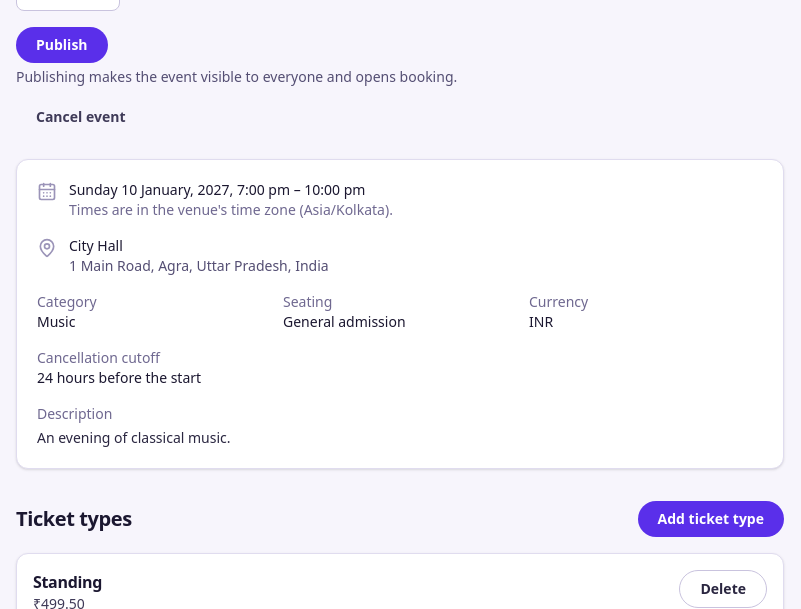
Test: OrganizerEventPage › ticket types › adds a general-admission ticket type and refreshes the list
Expected: the heading "Standing" is shown, [33,571,102,593]
Click the button "Add ticket type" at (711, 519), box [638,501,784,537]
(page scrolled)
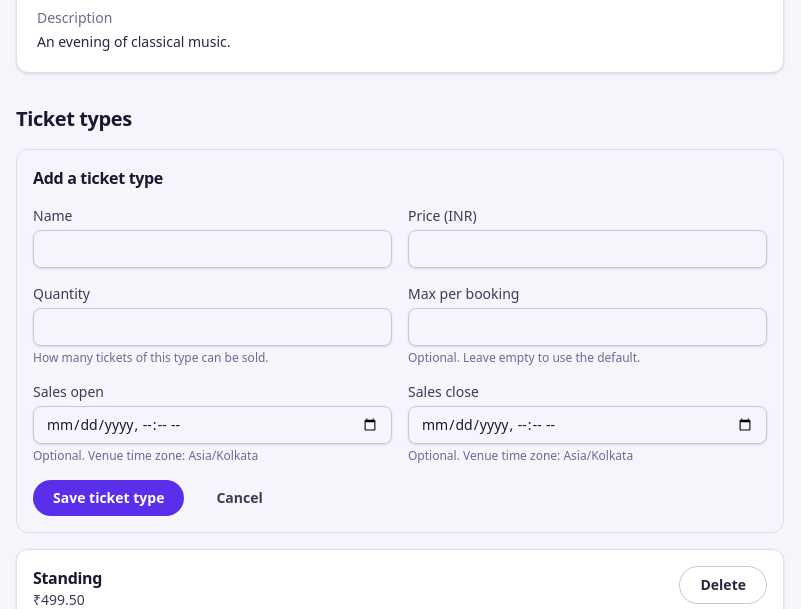
Type "Balcony" into the field labelled "Name" at (212, 249), box [33,230,392,268]
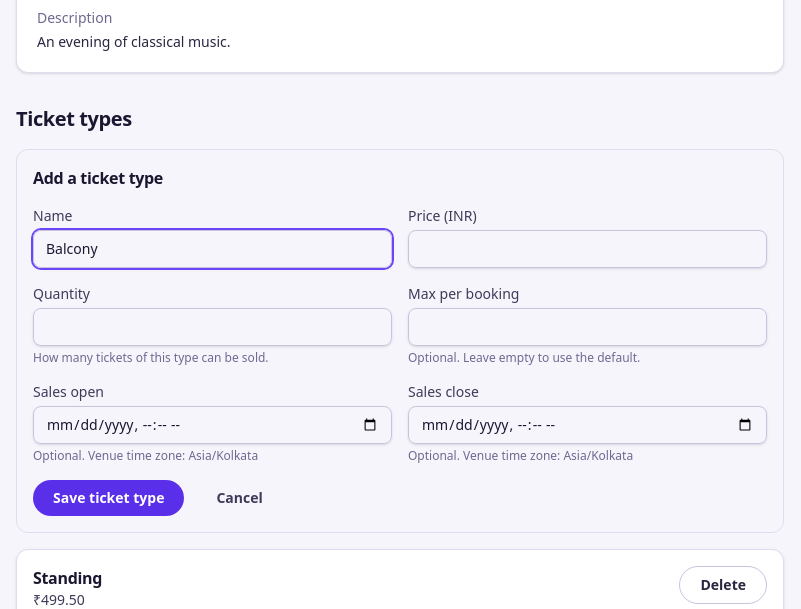
Type "300" into the number field labelled "Price (INR)" at (588, 249), box [408,230,767,268]
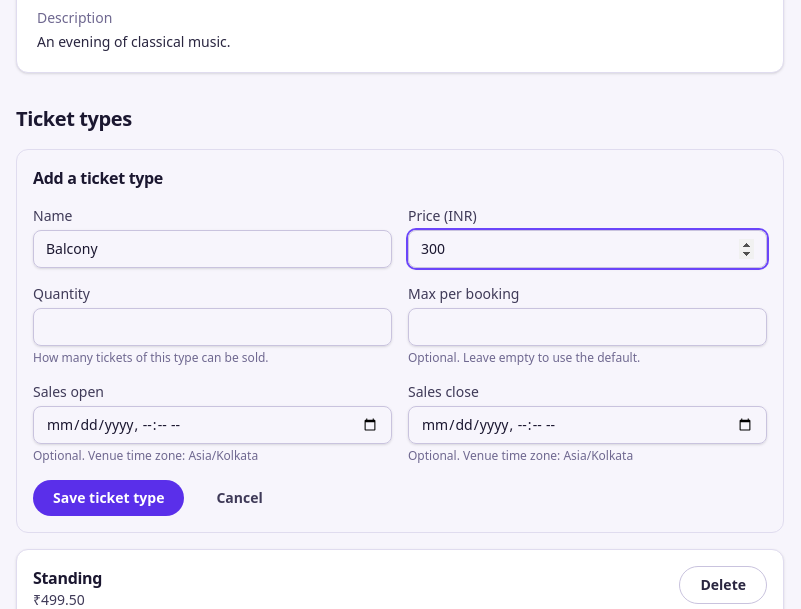
Type "40" into the number field labelled "Quantity" at (212, 327), box [33,308,392,346]
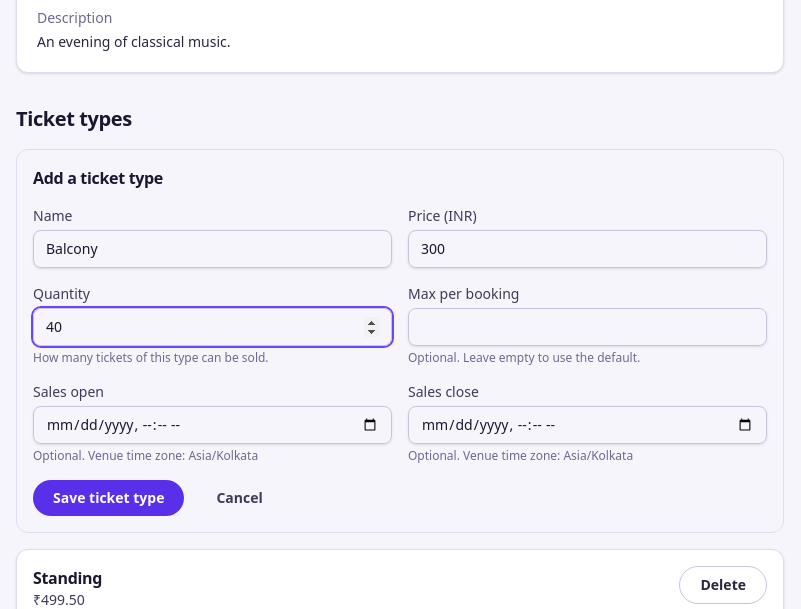
Click the button "Save ticket type" at (109, 498), box [33,480,184,516]
(page scrolled)
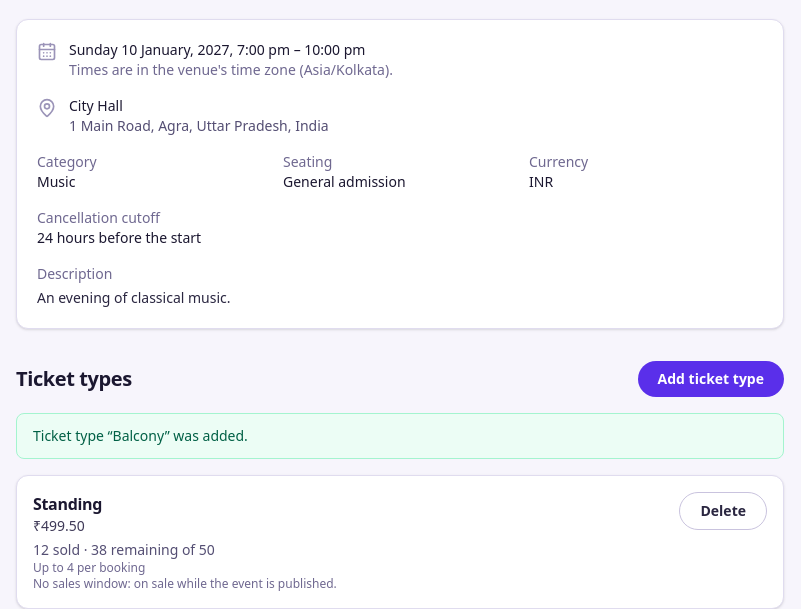
Result: the text "Ticket type “Balcony” was added." is shown at [16,413,784,459]
